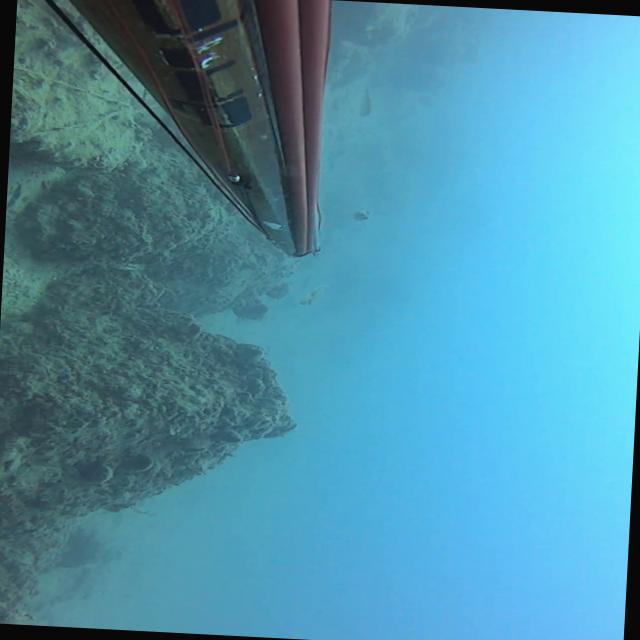Balon Baligi: (298, 284, 325, 306), (358, 85, 372, 118), (352, 210, 370, 222)
